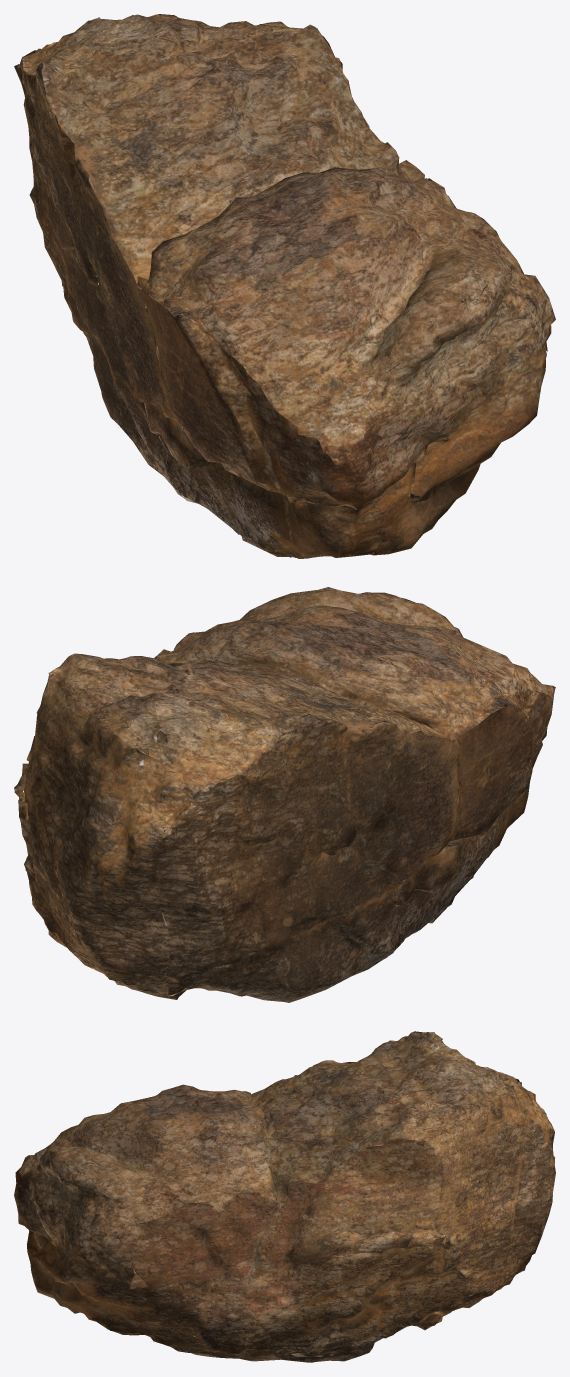
The model's file is namaqualand_boulder_06_lod0.glb.
3 renders of one model, top to bottom at view 1: azimuth 30°, elevation 25°; view 2: azimuth 150°, elevation 25°; view 3: azimuth 270°, elevation 25°, orthographic. The views are drawn at different scales.
Visible parts, largest first — view 1: namaqualand_boulder_06; view 2: namaqualand_boulder_06; view 3: namaqualand_boulder_06.
Part boxes in pixels (<box>): namaqualand_boulder_06: <box>14,14,555,558</box>; namaqualand_boulder_06: <box>14,587,555,1002</box>; namaqualand_boulder_06: <box>14,1031,555,1362</box>.
Bounding box in the file's own units: 0.6748 × 0.6519 × 1.21.
1 material, 1 textured.
